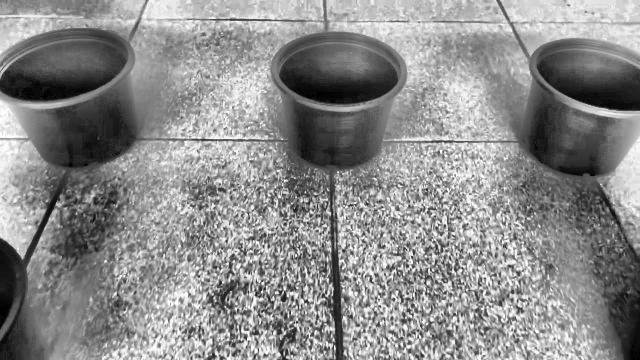pot: (0, 29, 138, 169), (270, 31, 407, 170), (520, 38, 640, 177)
